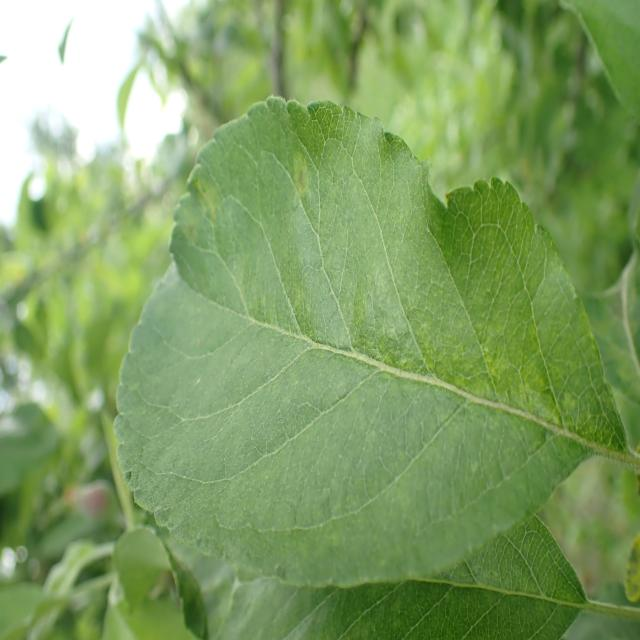scab: (130, 121, 576, 561)
